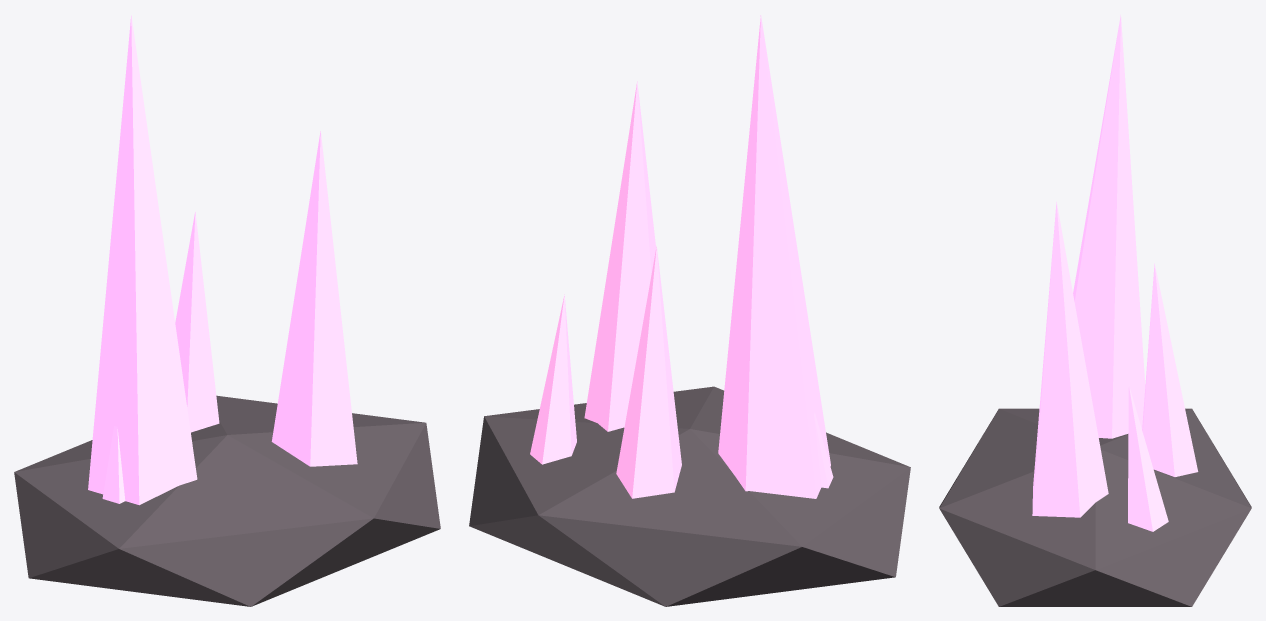
File: crystal_pink.glb
3 views of the same model, side by side, from view 1: azimuth 30°, elevation 25°; view 2: azimuth 150°, elevation 25°; view 3: azimuth 270°, elevation 25° (orthographic). The views are drawn at different scales.
Visible parts, largest first — view 1: crystal_pink; view 2: crystal_pink; view 3: crystal_pink.
Boxes of the visible parts, x1,y1,x2,y2 form: crystal_pink: (14,15,440,606); crystal_pink: (469,15,910,606); crystal_pink: (939,15,1251,606).
Size of the model in its own units: 0.7728 by 1.04 by 0.5716.
